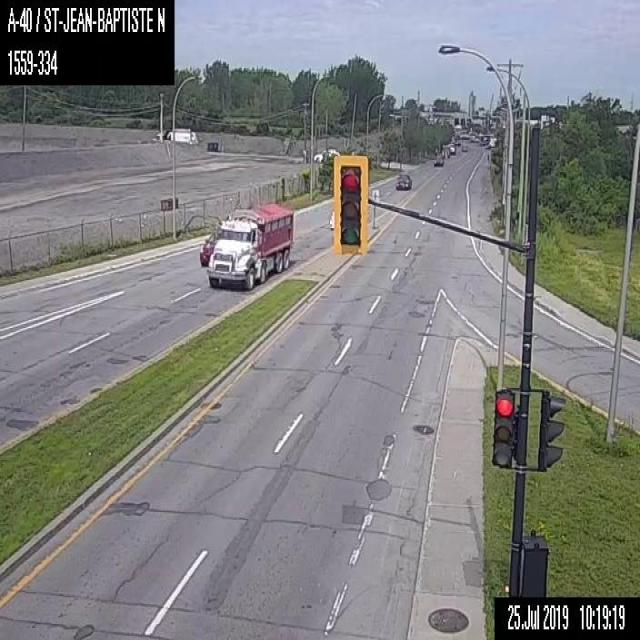vehicle: (208, 202, 292, 289), (199, 228, 215, 267), (313, 148, 339, 160), (396, 172, 412, 190), (433, 152, 442, 165), (441, 145, 449, 157), (447, 142, 455, 153), (461, 143, 468, 151)
